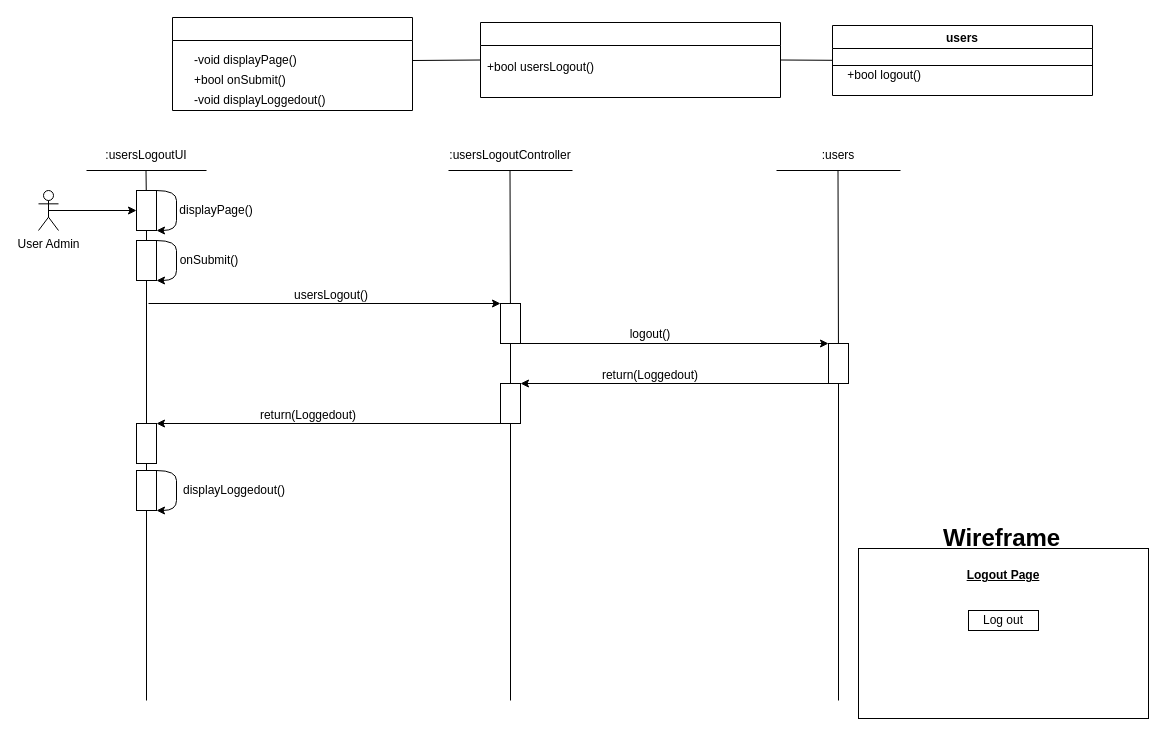
Image size: 1166x736. Some labels were removed from this diagram. Here are the shapes that lost their labels. From the top down, the box of each, then its label:
(172, 16, 412, 110): usersLogoutUI
(480, 22, 780, 98): usersLogoutController
